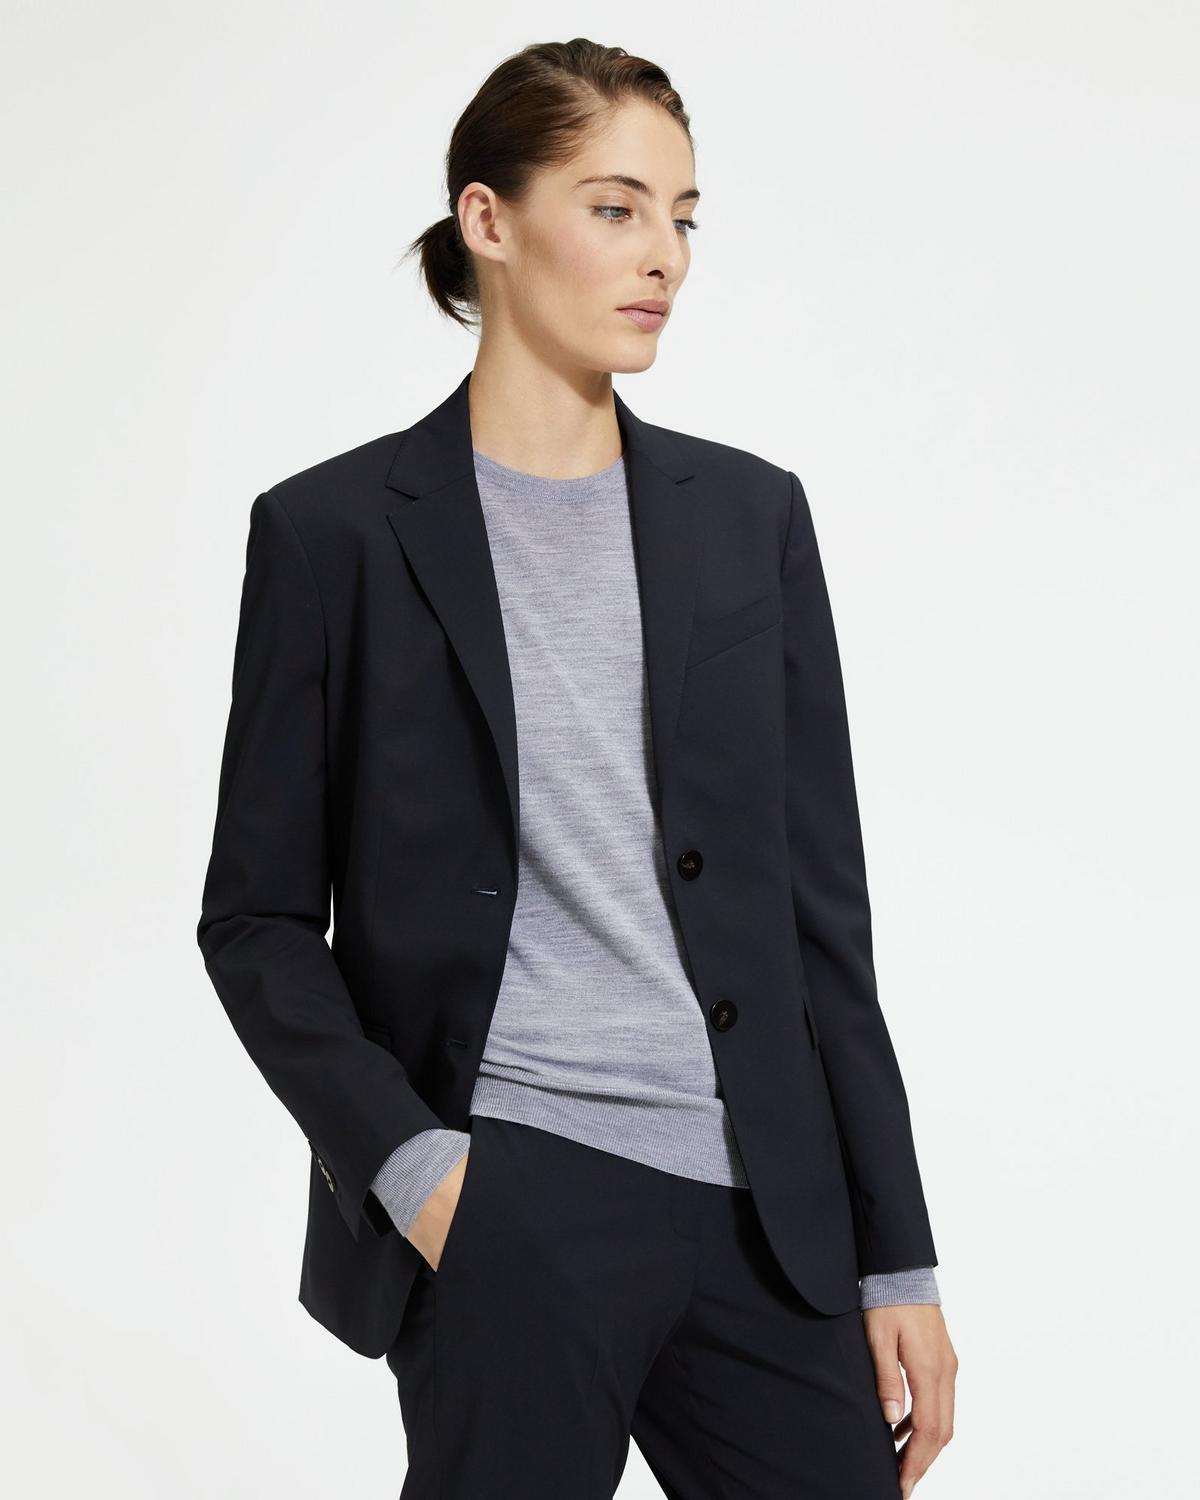F_W_suit jacket: (191, 384, 953, 1281)
